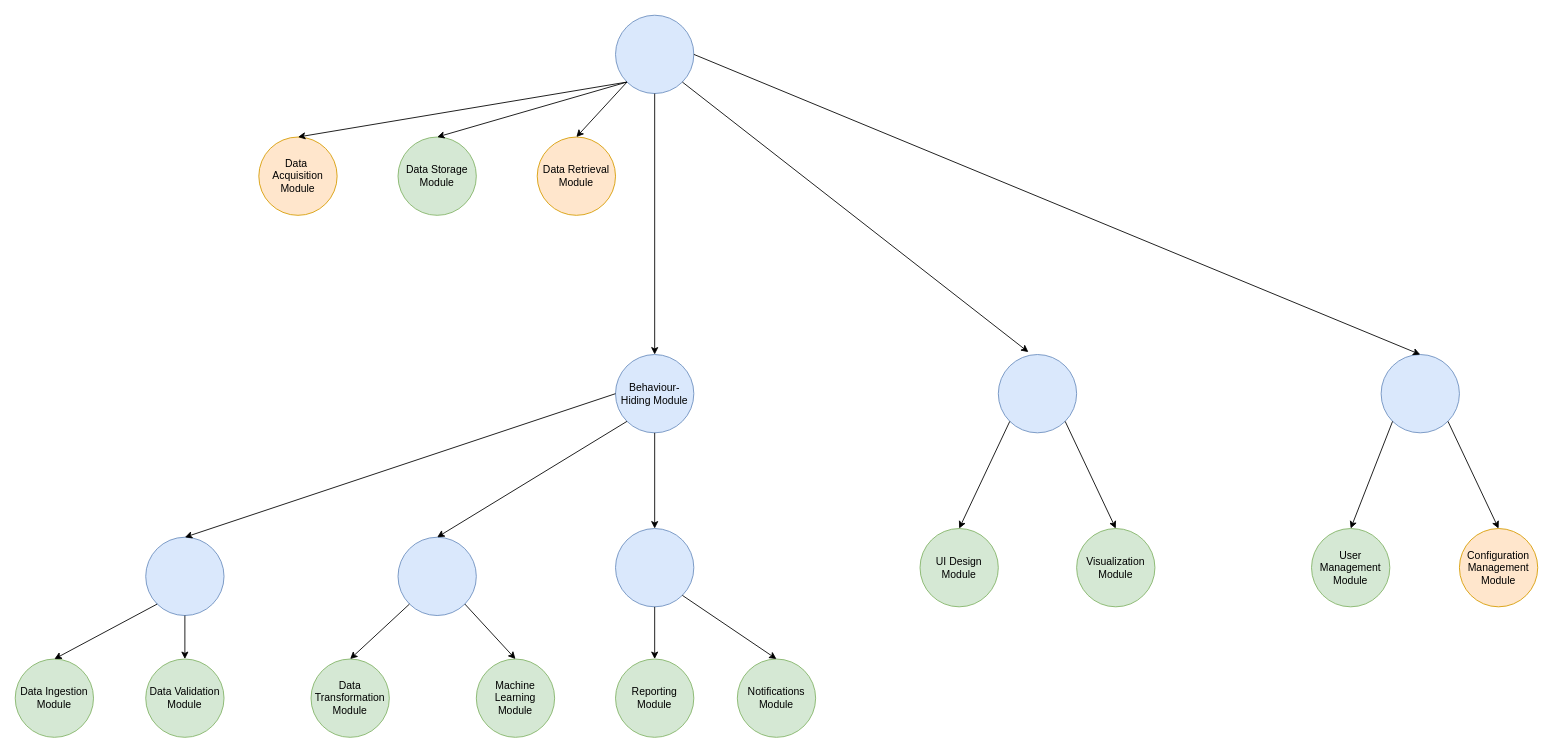
Image size: 1553x753. Some labels were removed from this diagram. Here are the shapes that lost their labels. From the top down, the centre of each, then its label:
At point 654,54: "Hardware-Hiding Module".
At point 1037,393: "Interface Module".
At point 1419,393: "Administration Module".
At point 184,576: "Input Module".
At point 436,576: "Processing Module".
At point 654,567: "Output Module".
